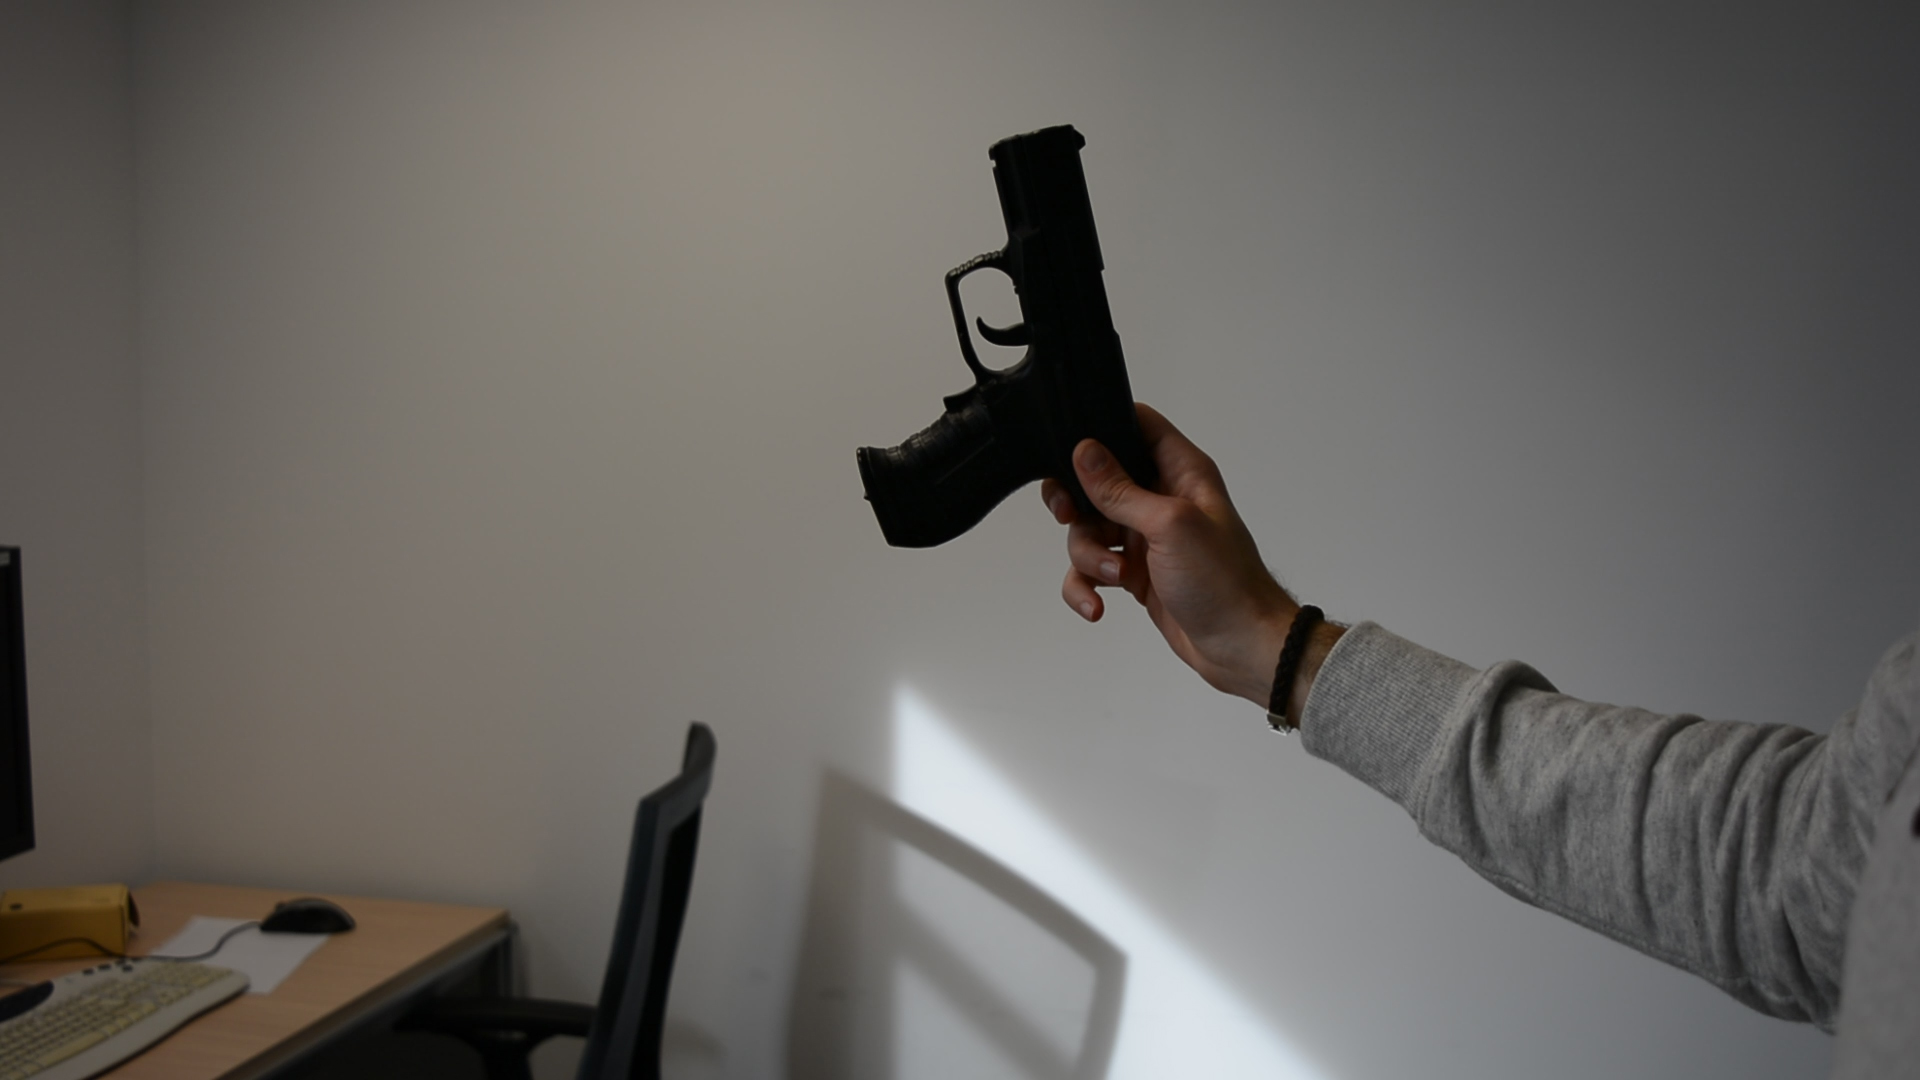pistol: (853, 121, 1153, 554)
